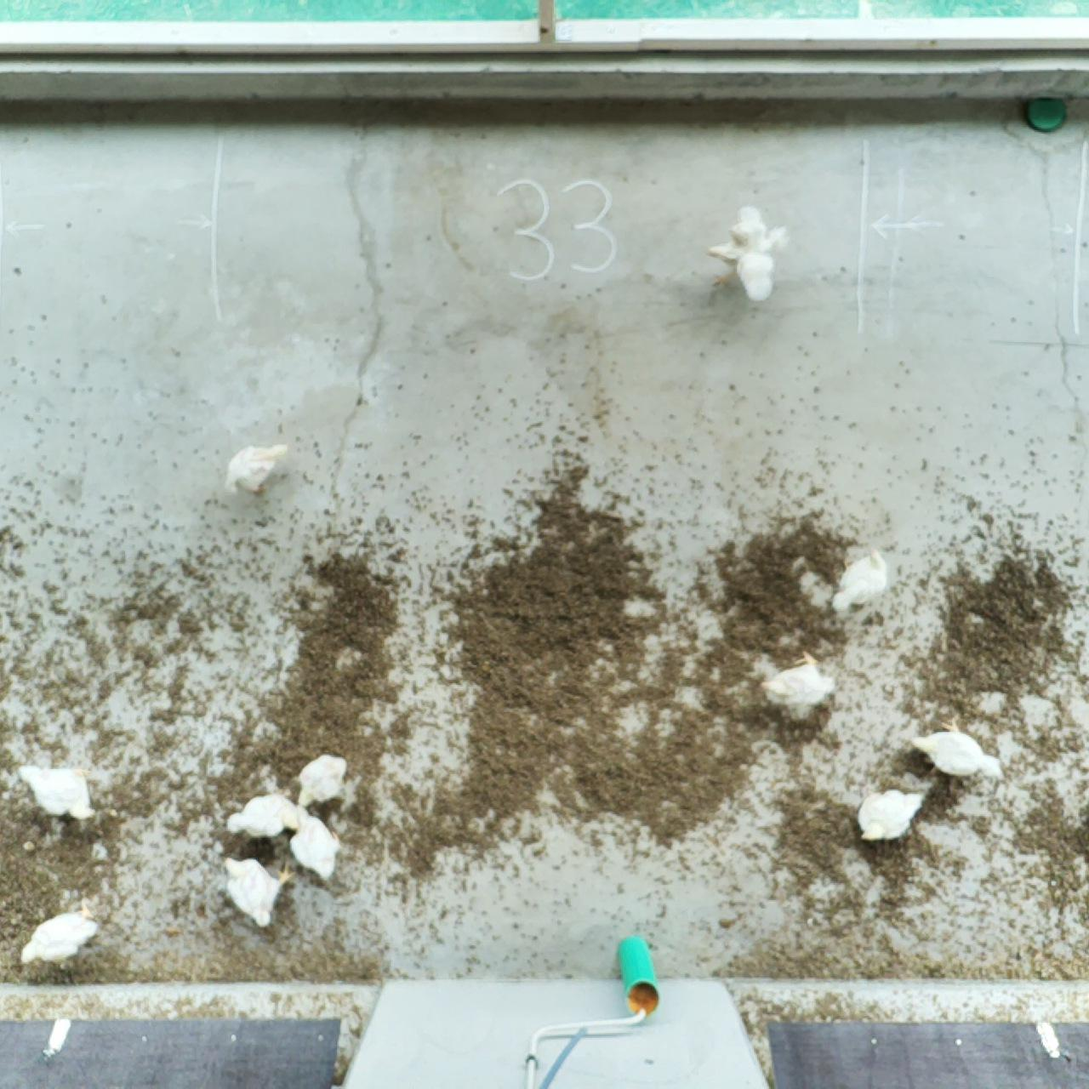chicken: (906, 713, 1009, 783), (19, 896, 102, 969), (221, 853, 300, 929), (758, 648, 838, 723), (12, 762, 98, 823), (851, 780, 929, 843), (828, 542, 891, 615), (288, 804, 345, 881), (294, 751, 360, 813), (227, 785, 302, 838), (222, 441, 290, 498), (729, 203, 780, 254), (706, 240, 754, 289), (733, 250, 777, 303)
